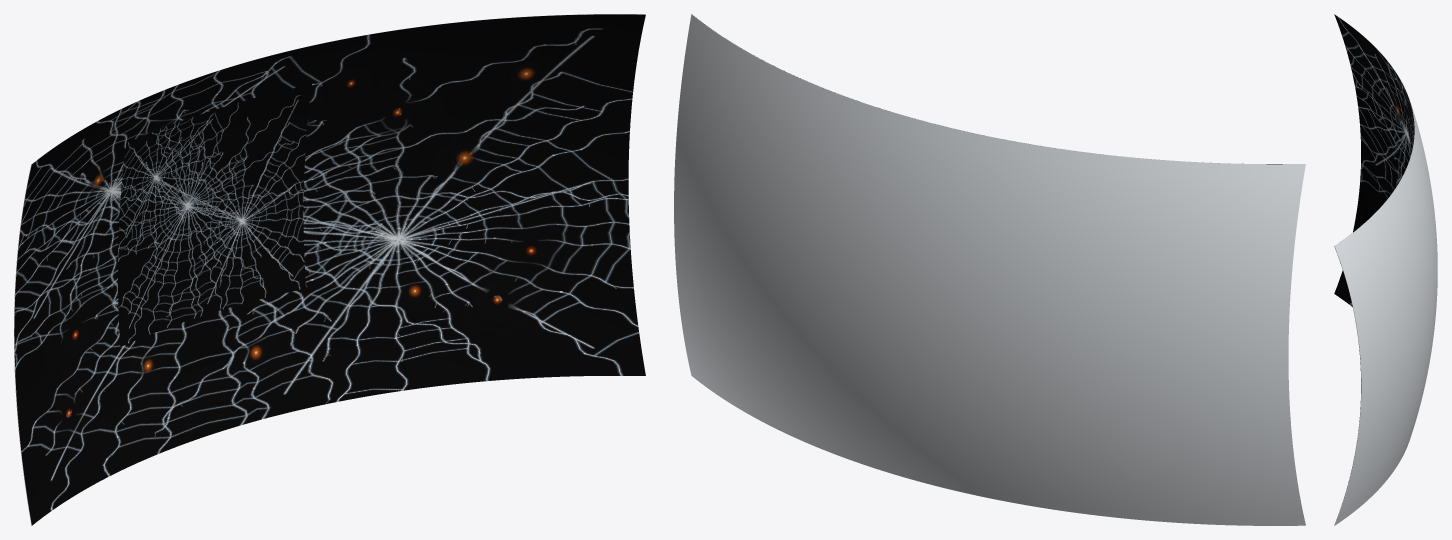
The model's file is screen_decals_spider_web_overlay_4.glb.
3 renders of one model, left to right at view 1: azimuth 30°, elevation 25°; view 2: azimuth 150°, elevation 25°; view 3: azimuth 270°, elevation 25°, orthographic. The views are drawn at different scales.
Visible parts, largest first — view 1: Decal_BrokenSpiderWeb_Screen, Decal_BrokenSpiderWeb_Core, Decal_MissileStrike_04, Decal_MissileStrike_06, Decal_MissileStrike_02, Decal_MissileStrike_08, Decal_MissileStrike_03, Decal_MissileStrike_07, Decal_LaserBurn_02, Decal_LaserBurn_05, Translucent_Clear_Screen, Decal_LaserBurn_08 (+2 smaller); view 2: Translucent_Clear_Screen; view 3: Translucent_Clear_Screen, Decal_BrokenSpiderWeb_Screen, Decal_BrokenSpiderWeb_Core, Decal_LaserBurn_01.
Part boxes in pixels (box(x1,y1,x2,y2)): Decal_BrokenSpiderWeb_Screen: box(14, 14, 645, 525); Decal_BrokenSpiderWeb_Core: box(118, 84, 311, 346); Decal_MissileStrike_04: box(490, 211, 573, 288); Decal_MissileStrike_06: box(455, 264, 540, 336); Decal_MissileStrike_02: box(360, 77, 439, 149); Decal_MissileStrike_08: box(315, 53, 387, 117); Decal_MissileStrike_03: box(46, 294, 105, 374); Decal_MissileStrike_07: box(47, 374, 92, 448); Decal_LaserBurn_02: box(439, 136, 490, 179); Decal_LaserBurn_05: box(500, 52, 553, 93); Translucent_Clear_Screen: box(14, 14, 645, 525); Decal_LaserBurn_08: box(238, 331, 274, 373); Translucent_Clear_Screen: box(674, 14, 1305, 525); Translucent_Clear_Screen: box(1334, 14, 1437, 525); Decal_BrokenSpiderWeb_Screen: box(1334, 14, 1414, 519); Decal_BrokenSpiderWeb_Core: box(1402, 101, 1414, 151); Decal_LaserBurn_01: box(1390, 94, 1404, 127).
Bounding box in the file's own units: 1.6 × 0.9365 × 0.302.
Materials: 4 (3 with a texture image).
